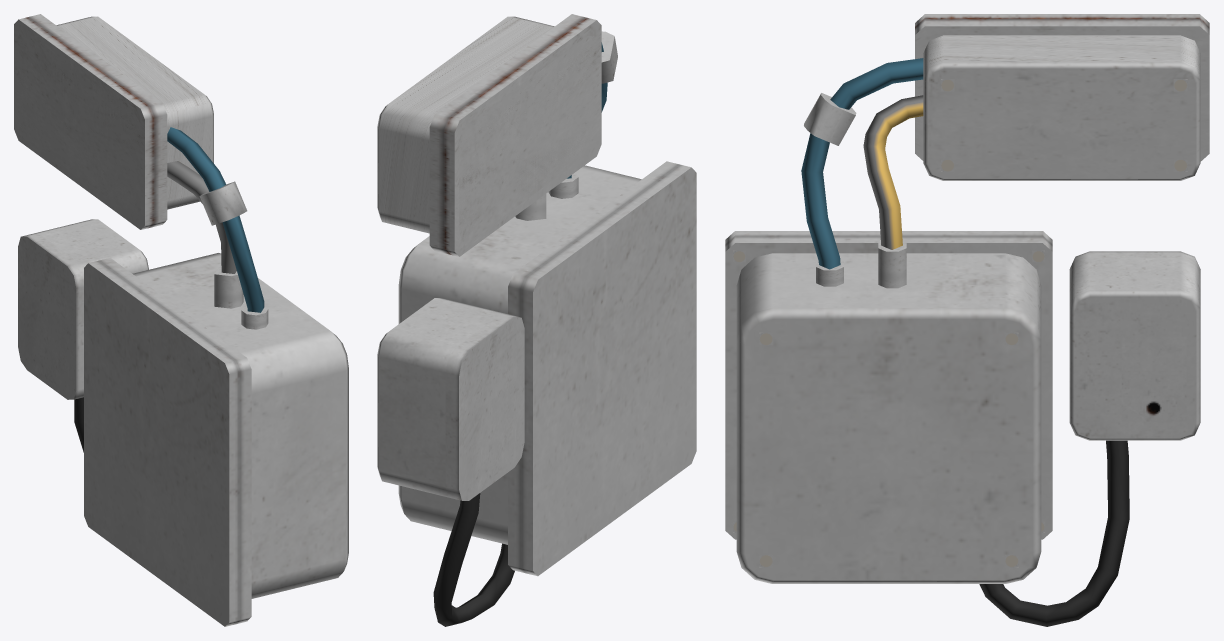
The model's file is wallCables_junctionBox03.fbx.
3 renders of one model, left to right at view 1: azimuth 30°, elevation 25°; view 2: azimuth 150°, elevation 25°; view 3: azimuth 270°, elevation 25°, orthographic. The views are drawn at different scales.
Parts seen in each view (by area): view 1: wallBox03_LOD0; view 2: wallBox03_LOD0; view 3: wallBox03_LOD0.
Boxes of the visible parts, box(x1,y1,x2,y2) form: wallBox03_LOD0: box(14, 14, 348, 626); wallBox03_LOD0: box(377, 14, 696, 626); wallBox03_LOD0: box(725, 14, 1209, 626).
Size of what is drawn, in the model's own units: 0.1542 by 0.4448 by 0.5845.
